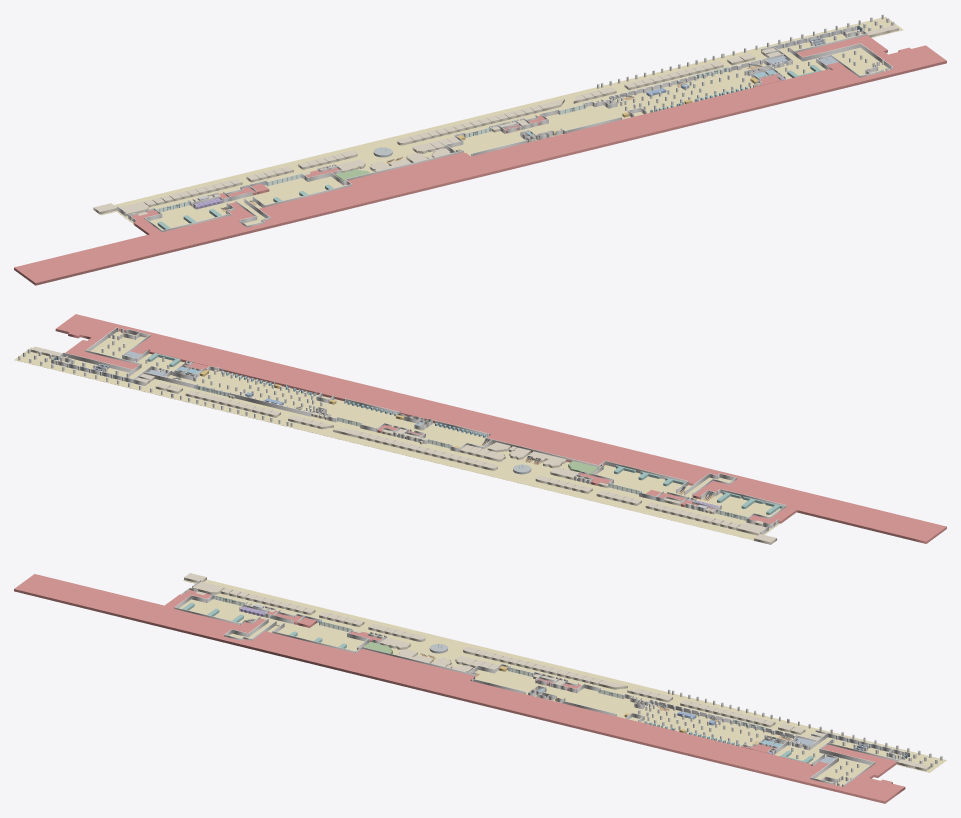
Rendered from GLB TERBARU!.glb.
3 renders of one model, top to bottom at view 1: azimuth 30°, elevation 25°; view 2: azimuth 150°, elevation 25°; view 3: azimuth 330°, elevation 25°, orthographic. The views are drawn at different scales.
Parts seen in each view (by area): view 1: area_merah, area_visitor; view 2: area_merah, area_visitor; view 3: area_merah, area_visitor.
Boxes of the visible parts, x1=… form: area_merah: x1=14, y1=35, x2=946, y2=285; area_visitor: x1=100, y1=16, x2=903, y2=229; area_merah: x1=55, y1=314, x2=946, y2=543; area_visitor: x1=14, y1=331, x2=780, y2=540; area_merah: x1=14, y1=574, x2=905, y2=803; area_visitor: x1=179, y1=579, x2=946, y2=786.
Size of the model in its own units: 650 by 4.3 by 77.85.
